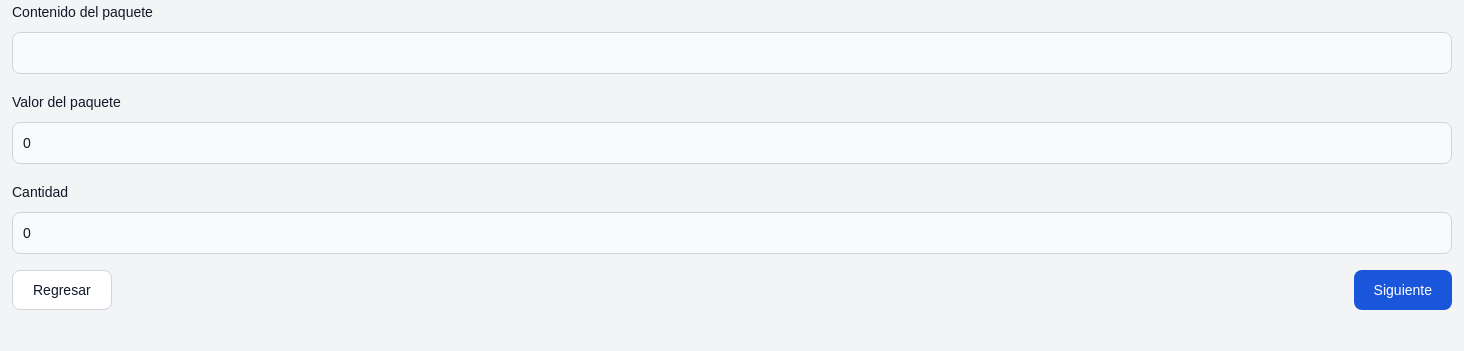
Test: ParcelInfoForm › Form validation errors › should display validation error when quantity field is 0 and form is submitted
The image size is (1464, 351).
Note: When user enters valid content and value but leaves quantity as 0 and submits
Type "Valid content" into the field with test id "content" at (732, 53), box [12,32,1452,74]
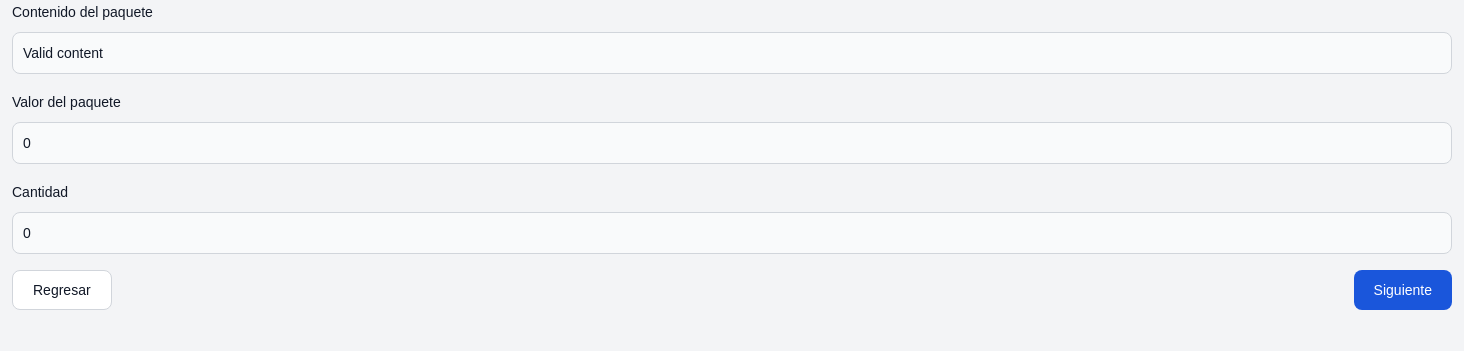
Replace the text in the number field with test id "value" with "100" at (732, 143), box [12,122,1452,164]
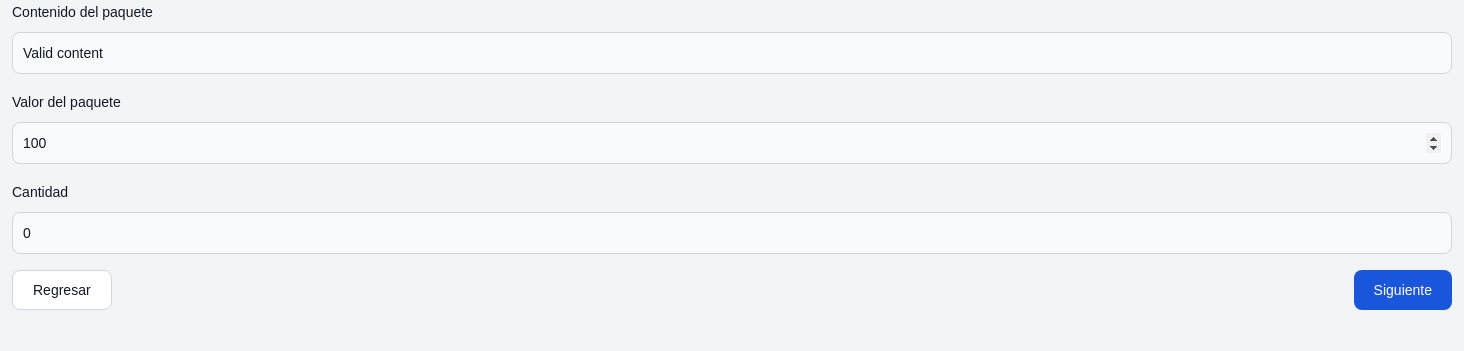
Click the button with test id "parcel-info-form-next-button" at (1403, 290), box [1354,270,1452,310]
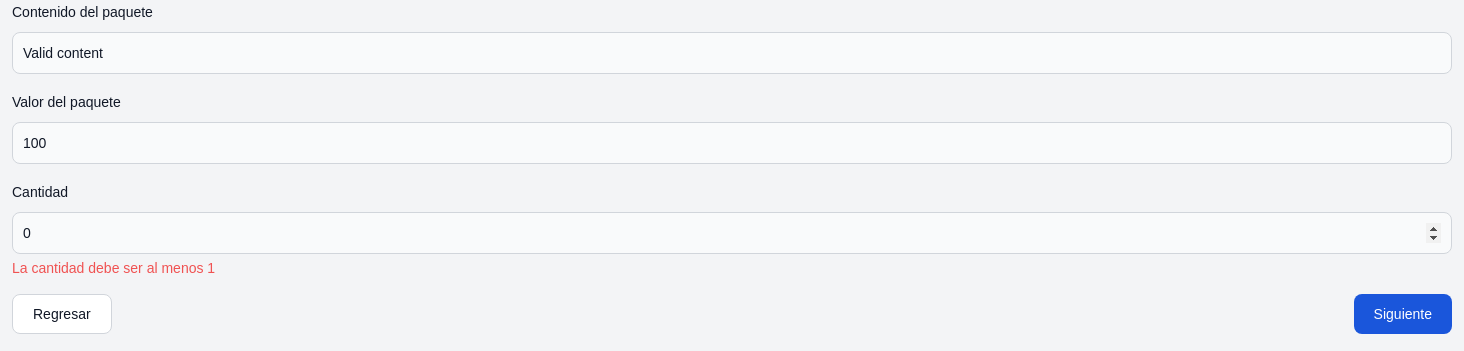
Expected: the text "La cantidad debe ser al menos 1" is shown, [12,260,215,276]
